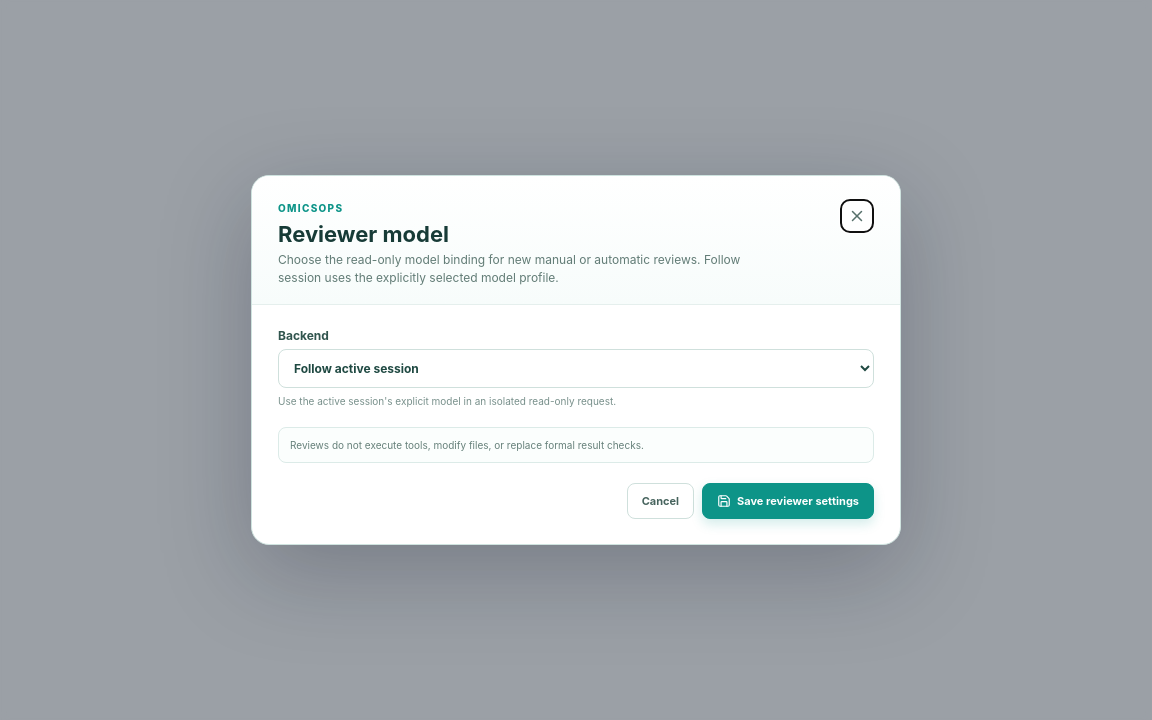
Test: ReviewerSettingsDialog › shows a safe save error and keeps the selected setting available for retry
This screenshot has width=1152, height=720.
Select "Specific HTTP profile" in the dropdown named "Reviewer backend" at (576, 369), box left=278, top=349, right=874, bottom=388
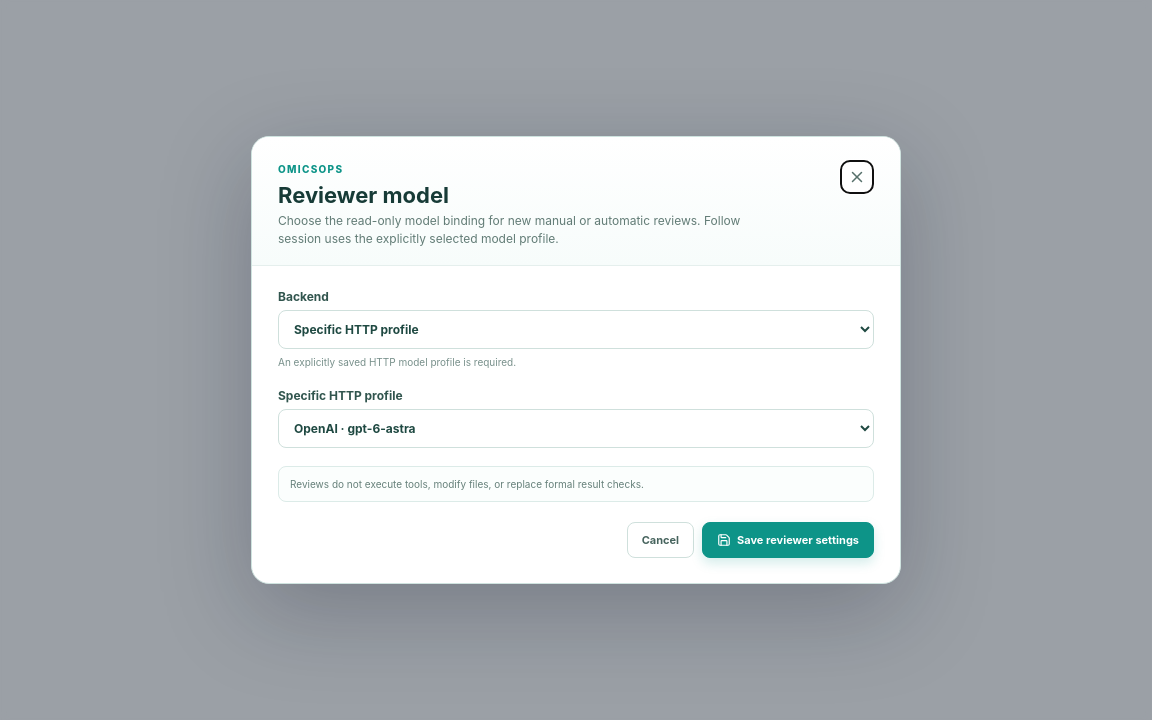
Select "Local Ollama · llama3" in the dropdown named "Reviewer HTTP profile" at (576, 428), box left=278, top=409, right=874, bottom=448
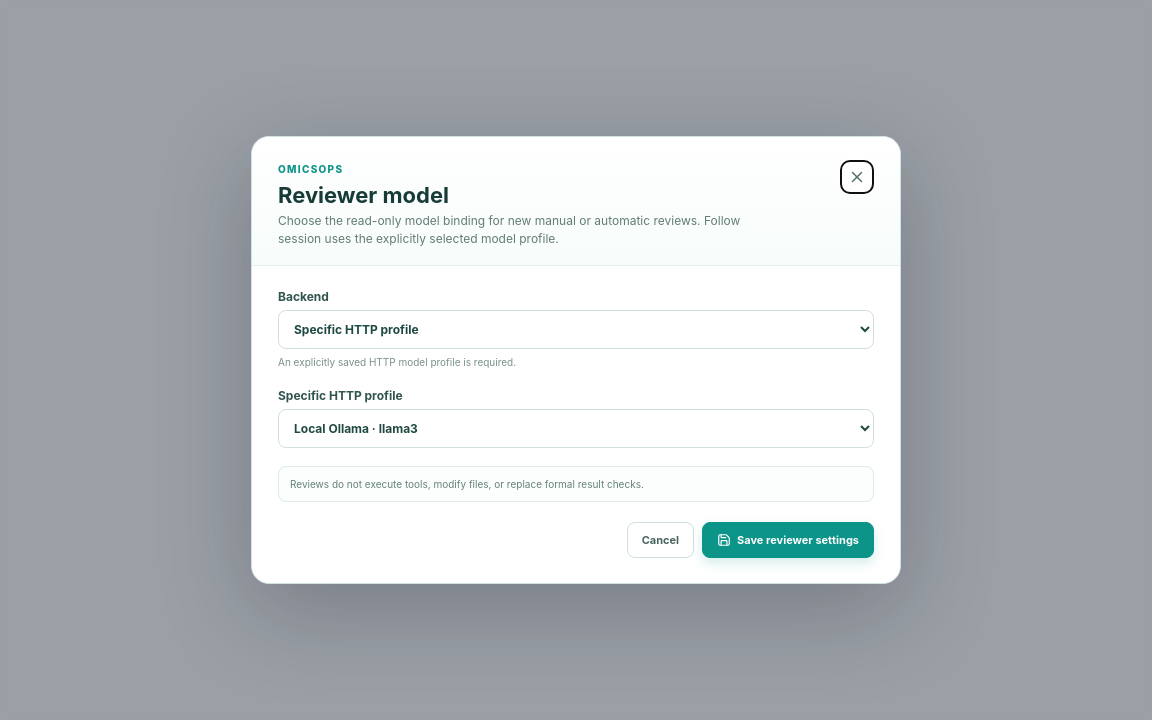
Click the button "Save reviewer settings" at (788, 540), box left=702, top=522, right=874, bottom=558
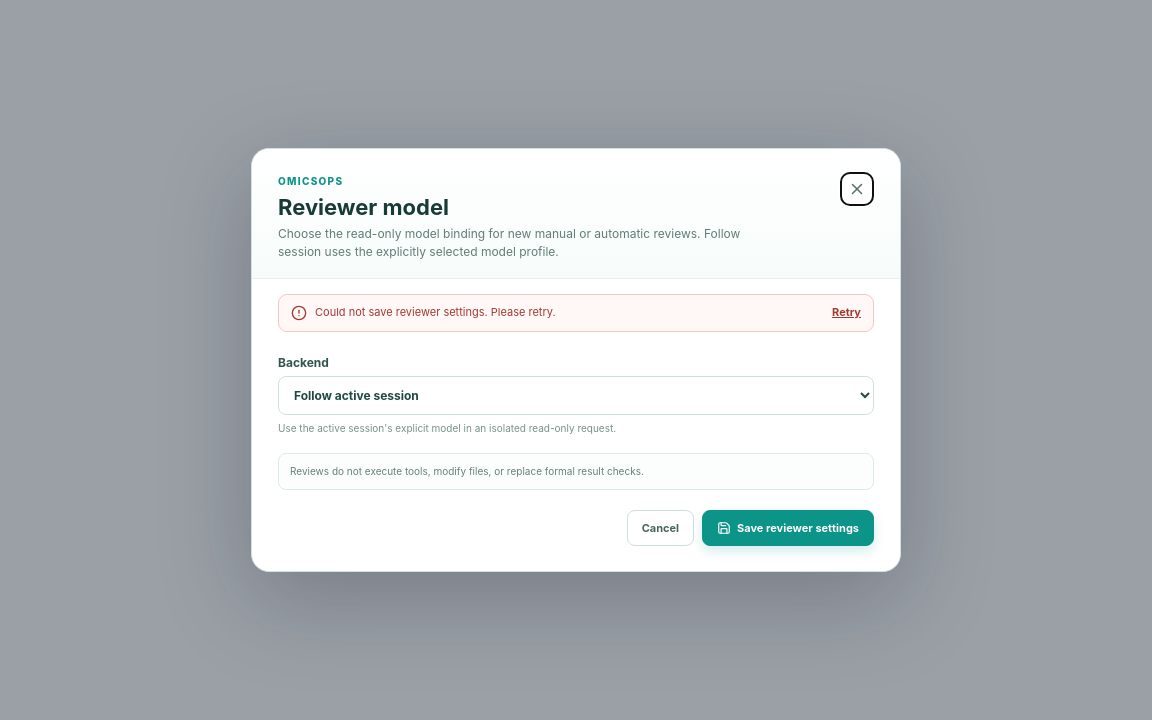
Expected: the message shows "Could not save reviewer settings", left=315, top=305, right=556, bottom=319
